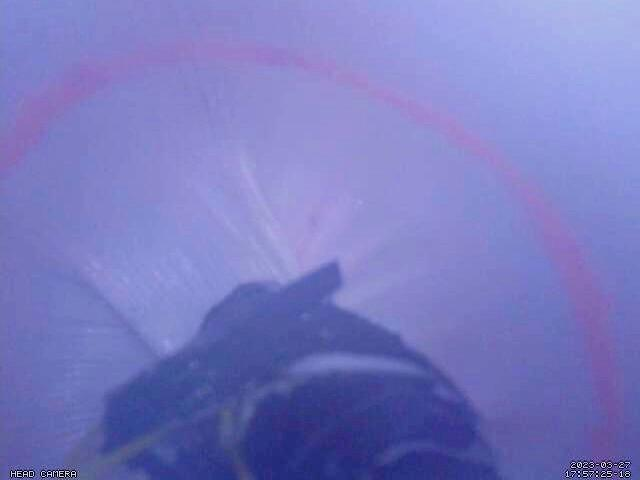head: (0, 42, 623, 480)
